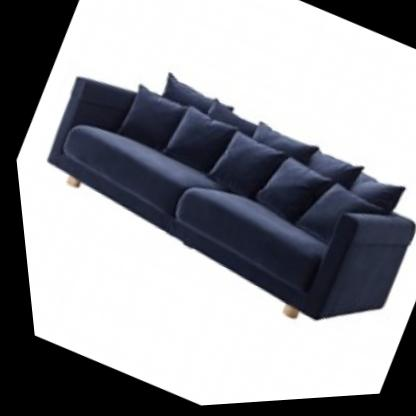Sofa: (1, 0, 416, 381)
